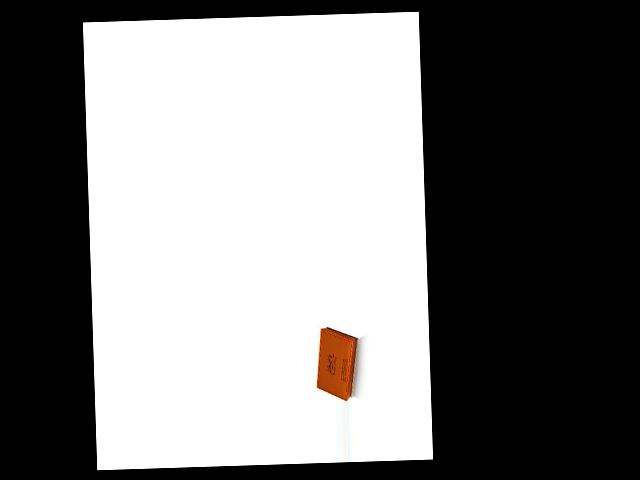chocolate: (312, 324, 365, 401)
